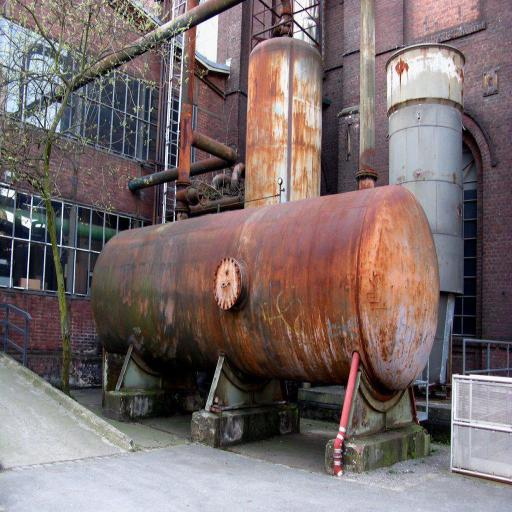segmentation: (91, 186, 439, 400), (246, 39, 289, 195), (394, 59, 407, 75)
